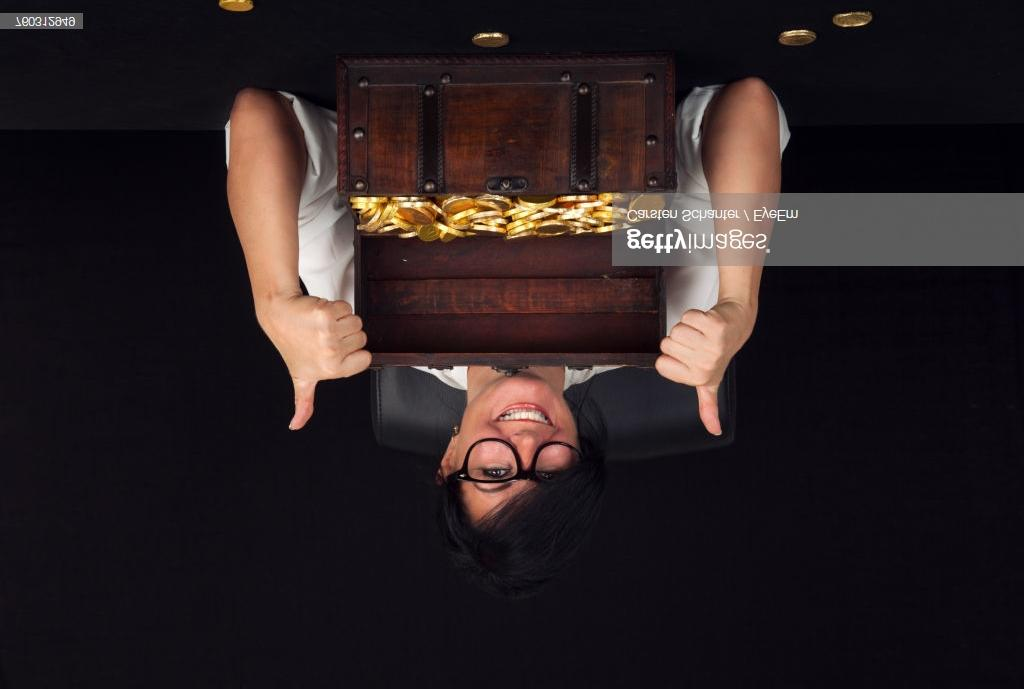thumbsdown: (287, 301, 373, 433), (655, 309, 724, 437)
